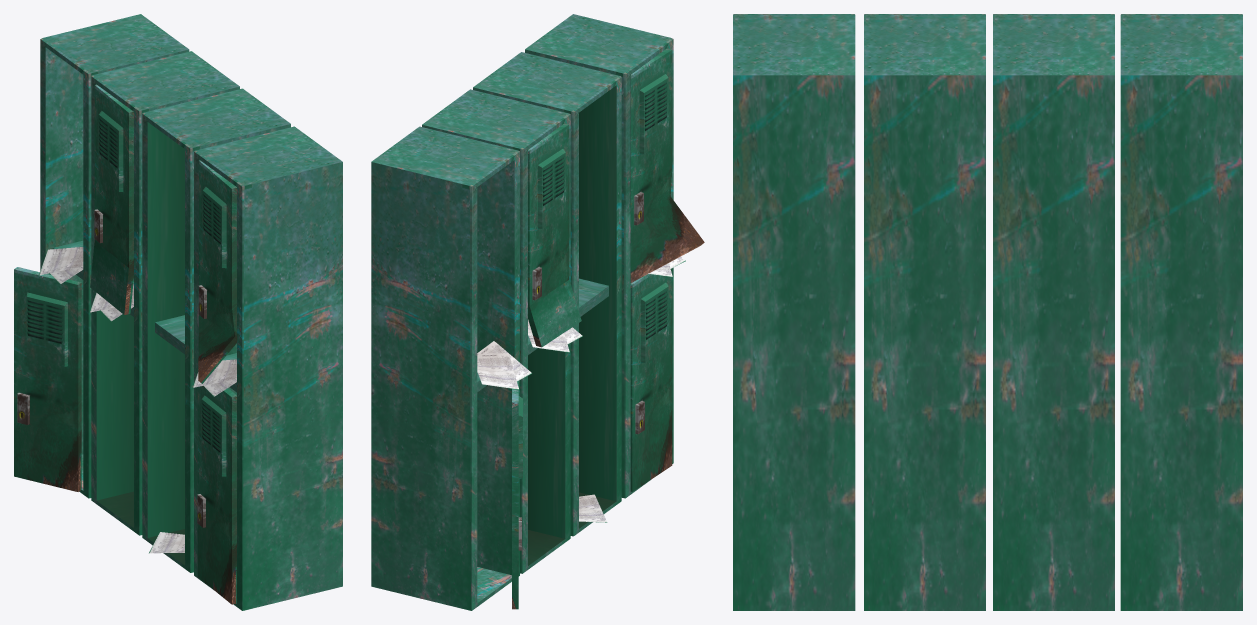
File: Lockers06.fbx
The picture shows the model from 3 angles, left to right: view 1: azimuth 30°, elevation 25°; view 2: azimuth 150°, elevation 25°; view 3: azimuth 270°, elevation 25°; orthographic projection. The views are drawn at different scales.
Visible parts, largest first — view 1: Empty_Mesh; view 2: Empty_Mesh; view 3: Empty_Mesh.
Boxes of the visible parts, bbox=[...] form: Empty_Mesh: bbox=[14, 14, 342, 610]; Empty_Mesh: bbox=[371, 14, 704, 610]; Empty_Mesh: bbox=[733, 14, 1242, 610].
Size of the model in its own units: 65.93 by 194 by 167.
